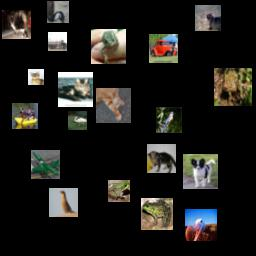airplane: (31, 150, 60, 179)
automobile: (149, 34, 178, 63)
bird: (185, 209, 217, 241), (49, 188, 78, 217), (156, 107, 182, 133), (47, 1, 69, 23), (68, 111, 87, 130)
cat: (96, 88, 131, 123), (58, 72, 93, 107), (147, 144, 176, 173), (2, 10, 31, 39), (195, 5, 221, 31), (28, 69, 44, 85)
dog: (183, 154, 218, 189)
frog: (214, 68, 252, 106), (91, 29, 126, 64), (141, 198, 173, 230), (108, 180, 130, 202)
ship: (12, 103, 38, 129)
truck: (48, 32, 67, 51)
